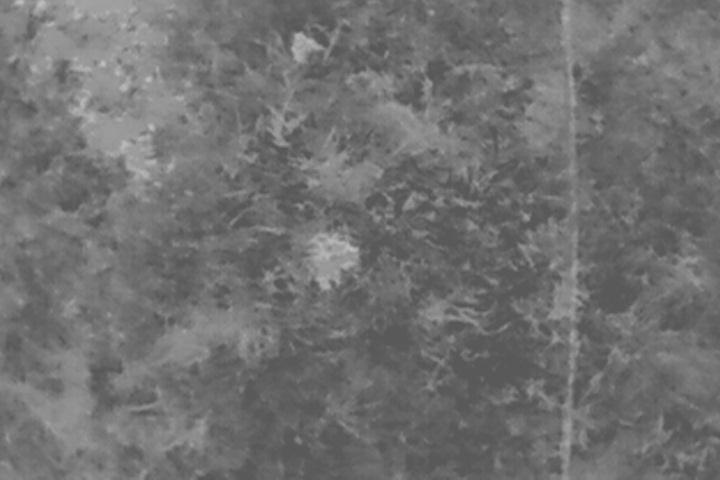landmine: (314, 232, 348, 264)
